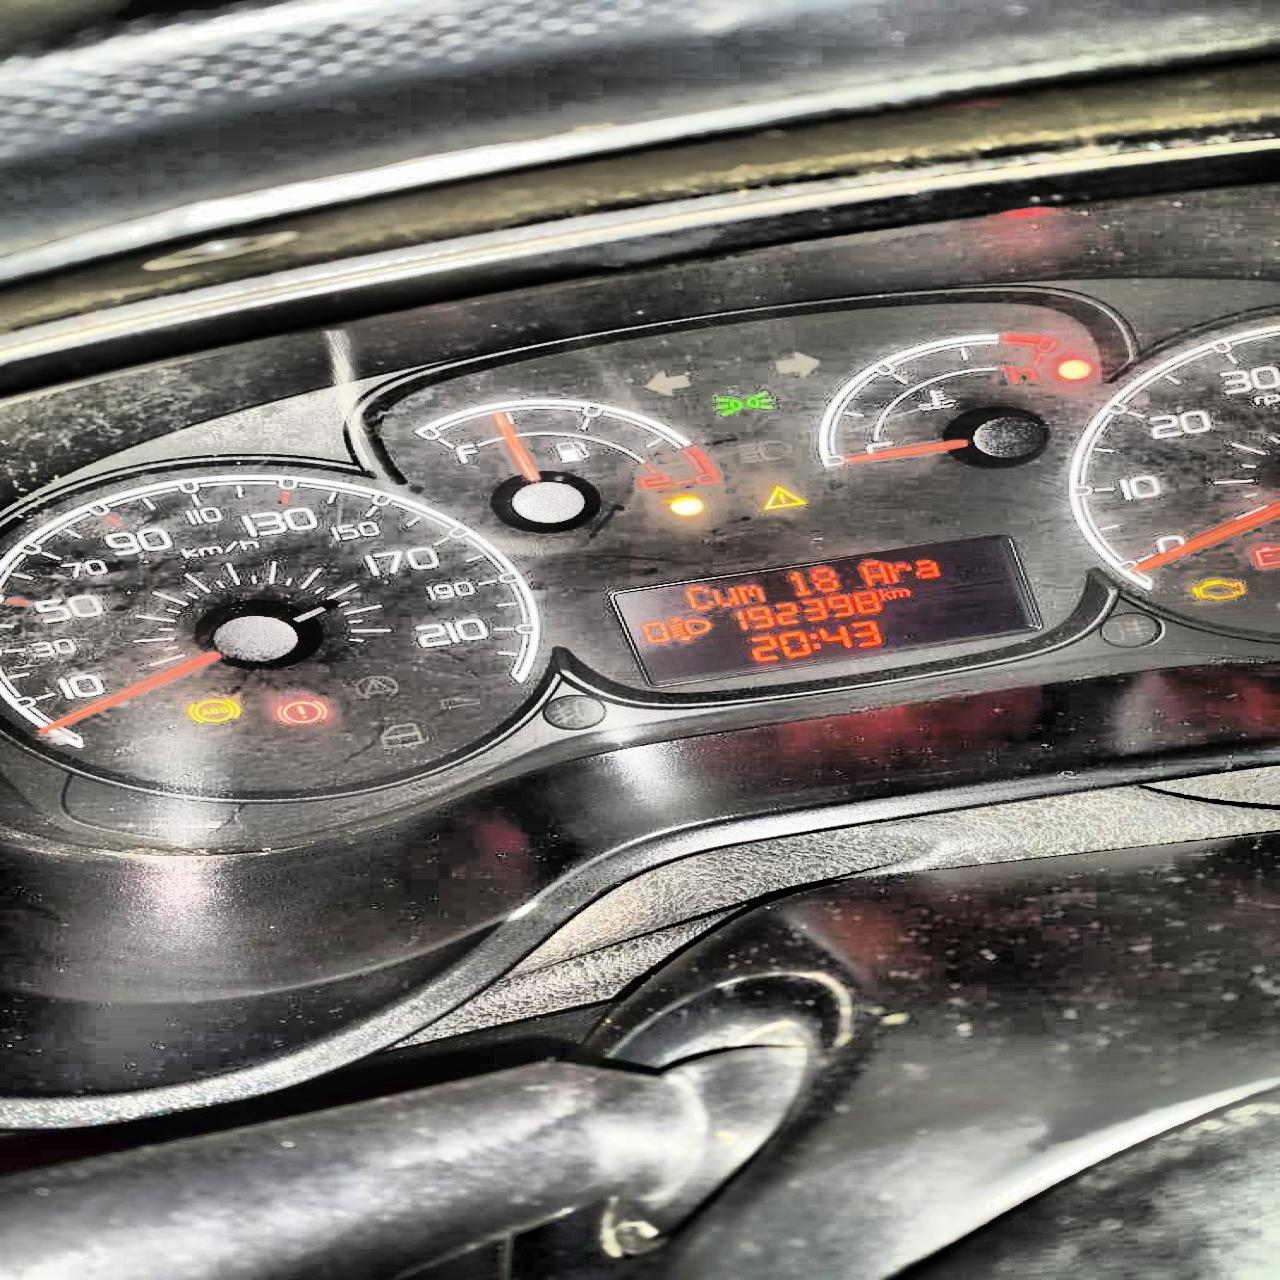0: (779, 631, 809, 656), (641, 621, 668, 644)
1: (787, 570, 810, 595), (731, 610, 747, 631)
2: (750, 634, 776, 660), (772, 600, 801, 624)
3: (850, 620, 879, 646), (802, 597, 826, 620)
4: (819, 626, 850, 647)
8: (810, 567, 838, 592), (852, 590, 879, 613)
9: (745, 606, 771, 627), (828, 594, 851, 617)
X: (683, 584, 712, 610), (860, 559, 887, 585), (735, 584, 765, 604), (712, 586, 738, 606), (913, 558, 941, 577), (887, 561, 912, 583), (809, 632, 819, 649), (891, 588, 910, 598), (876, 587, 890, 599)
odometer: (598, 530, 1047, 692)
